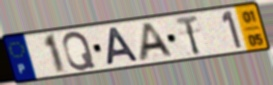1: (43, 32, 70, 76), (220, 10, 246, 51)
A: (137, 21, 177, 63), (105, 26, 142, 67)
Q: (61, 30, 98, 72)
T: (173, 13, 202, 57)
